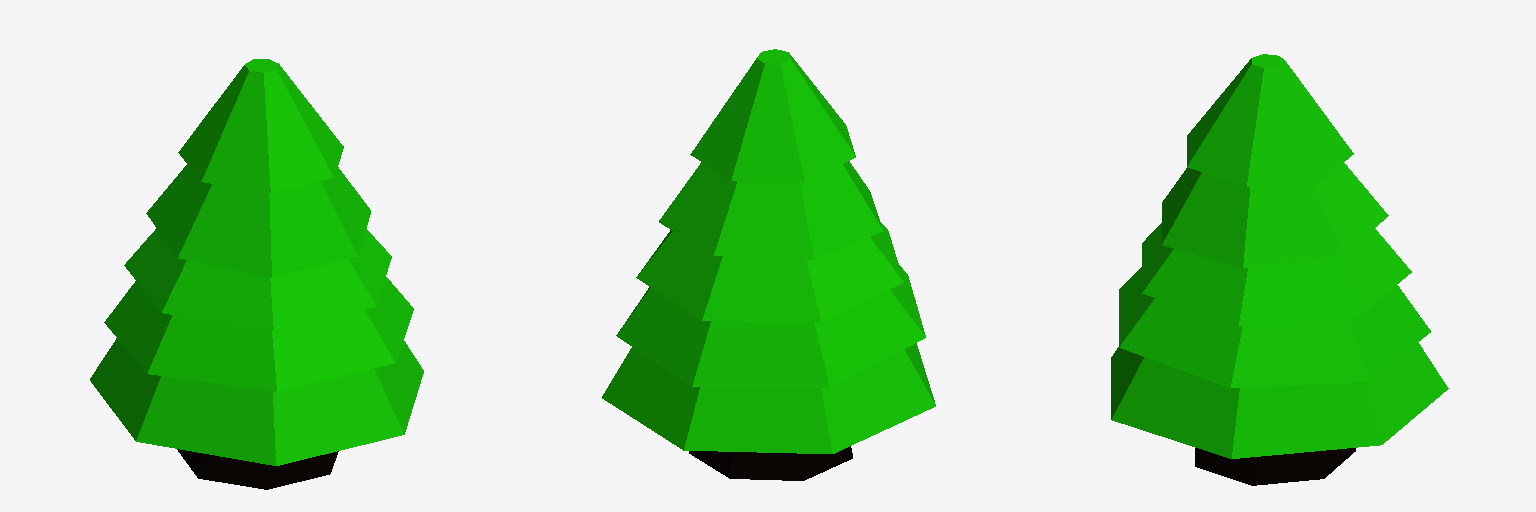
The model's file is ctree2B(F68).obj.
3 views of the same model, side by side, from view 1: azimuth 30°, elevation 25°; view 2: azimuth 150°, elevation 25°; view 3: azimuth 270°, elevation 25° (orthographic).
Visible parts, largest first — view 1: Cylinder.114, Cylinder.115, Cylinder.117, Cylinder.116, Cylinder.118, Cylinder.113; view 2: Cylinder.114, Cylinder.115, Cylinder.116, Cylinder.117, Cylinder.118, Cylinder.113; view 3: Cylinder.114, Cylinder.115, Cylinder.117, Cylinder.116, Cylinder.118, Cylinder.113.
Part boxes in pixels (bbox=[...]): Cylinder.114: bbox=[90, 338, 423, 465]; Cylinder.115: bbox=[104, 277, 413, 391]; Cylinder.117: bbox=[146, 164, 370, 277]; Cylinder.116: bbox=[124, 228, 391, 330]; Cylinder.118: bbox=[178, 59, 343, 192]; Cylinder.113: bbox=[177, 449, 338, 489]; Cylinder.114: bbox=[602, 343, 935, 453]; Cylinder.115: bbox=[616, 265, 925, 387]; Cylinder.116: bbox=[636, 223, 903, 322]; Cylinder.117: bbox=[659, 161, 882, 259]; Cylinder.118: bbox=[690, 49, 855, 182]; Cylinder.113: bbox=[689, 446, 852, 480]; Cylinder.114: bbox=[1111, 342, 1448, 458]; Cylinder.115: bbox=[1119, 267, 1430, 388]; Cylinder.117: bbox=[1162, 163, 1388, 267]; Cylinder.116: bbox=[1142, 223, 1411, 325]; Cylinder.118: bbox=[1187, 54, 1353, 186]; Cylinder.113: bbox=[1195, 448, 1355, 485].
Bounding box in the file's own units: 1.16 × 1.5 × 1.18.